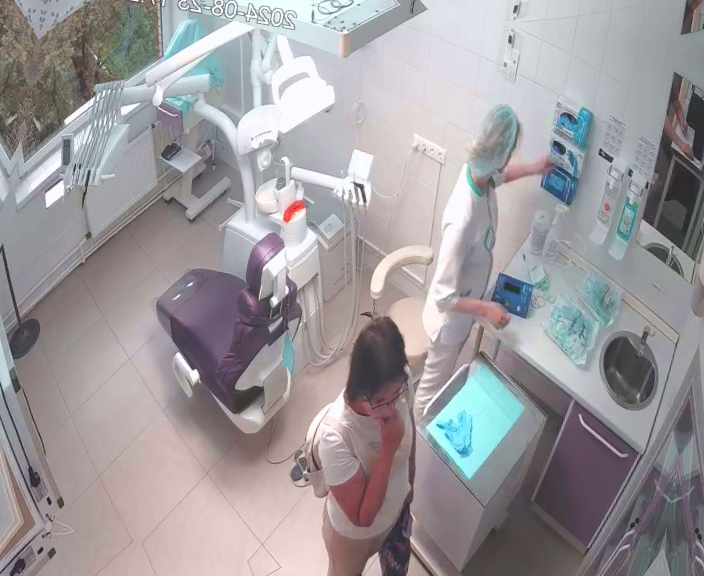Empty: (133, 218, 321, 441)
